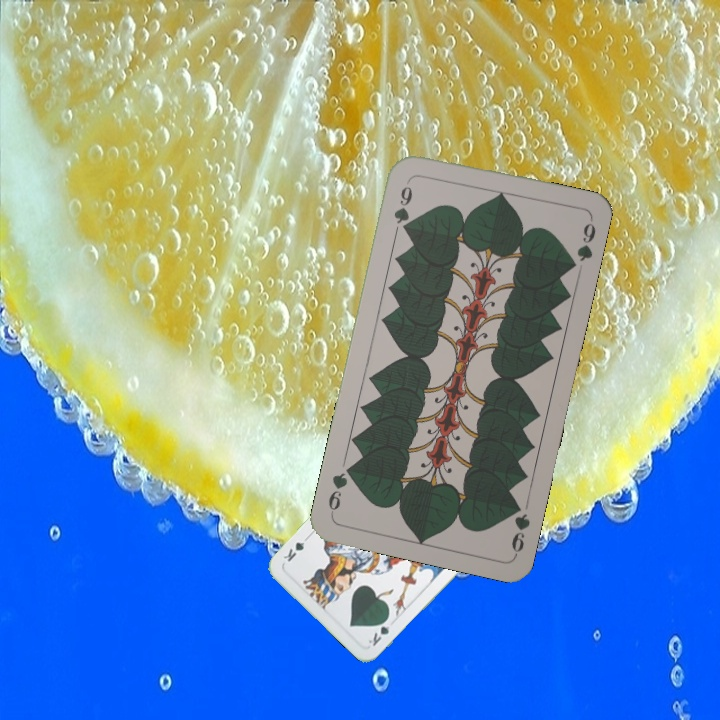G9: (507, 497, 533, 558), (389, 175, 415, 235)
GK: (364, 613, 392, 649)
